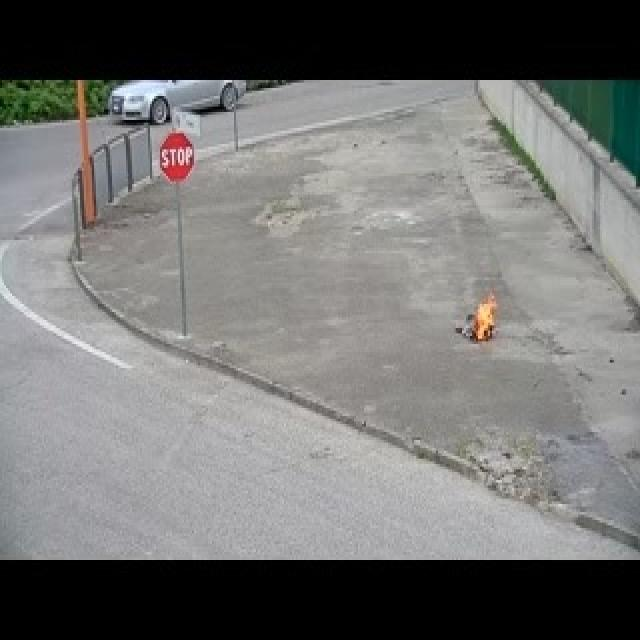fire: (476, 294, 502, 340)
